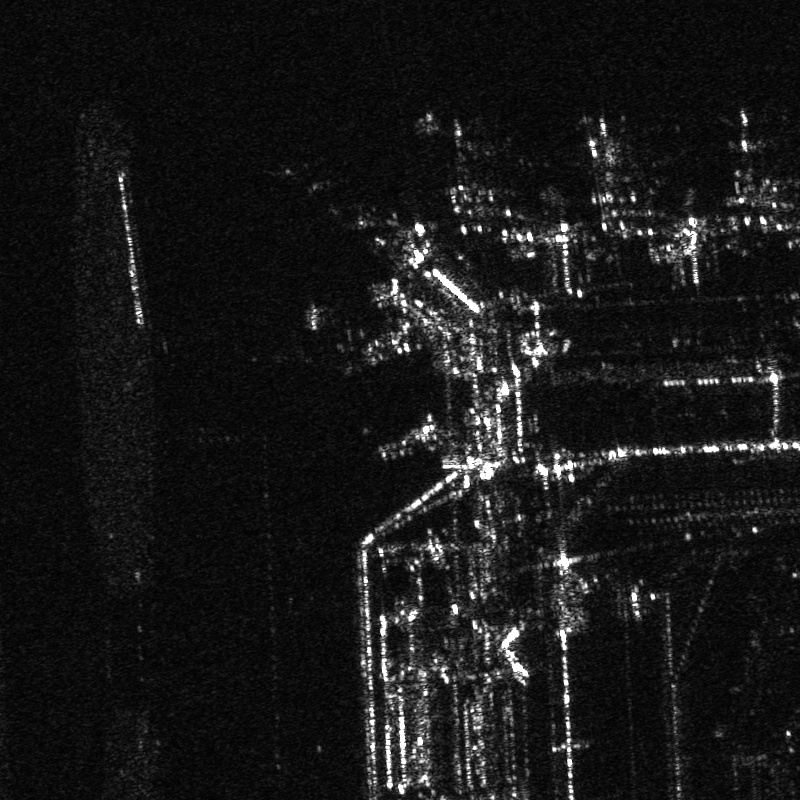A220: (576, 110, 642, 206)
Boeing787: (715, 103, 774, 183)
other: (430, 110, 509, 220)
